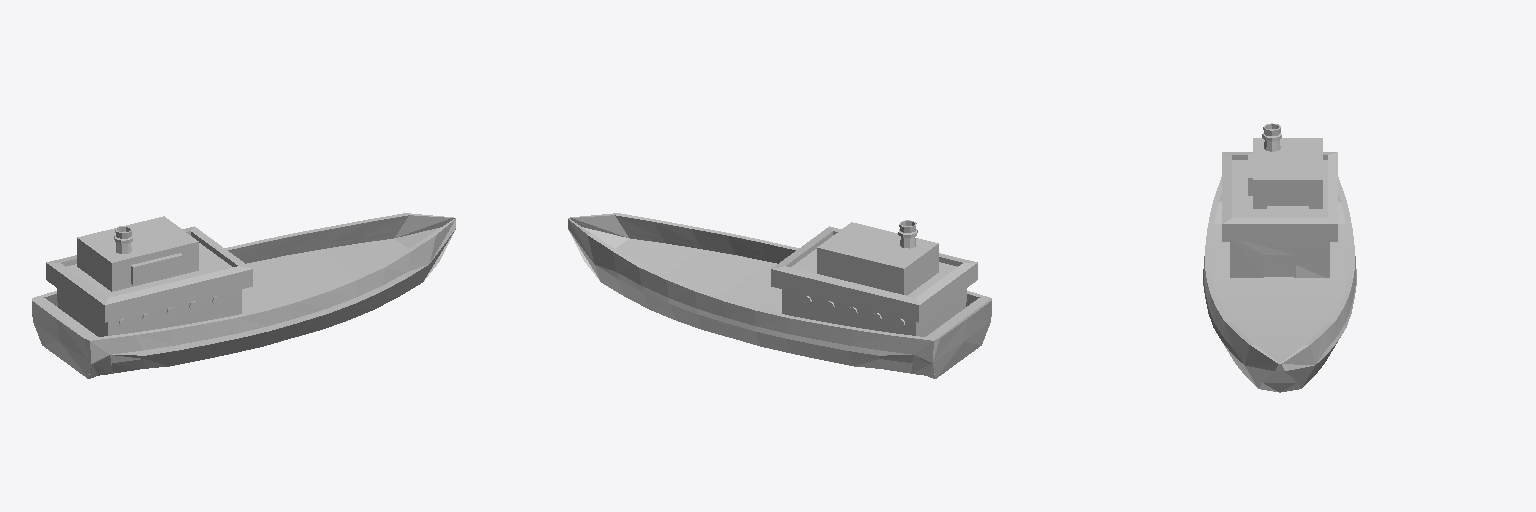
File: boat.obj
The picture shows the model from 3 angles: view 1: azimuth 30°, elevation 25°; view 2: azimuth 150°, elevation 25°; view 3: azimuth 270°, elevation 25°; orthographic projection.
Parts seen in each view (by area): view 1: Boat_Cube; view 2: Boat_Cube; view 3: Boat_Cube.
Boxes of the visible parts, box(x1,y1,x2,y2) form: Boat_Cube: box(32, 213, 455, 378); Boat_Cube: box(568, 213, 991, 378); Boat_Cube: box(1203, 123, 1356, 392).
Bounding box in the file's own units: 7.96 × 2.39 × 2.66.